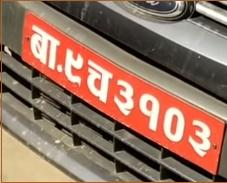0: (162, 103, 187, 146)
1: (138, 90, 161, 134)
3: (188, 115, 212, 160), (114, 77, 136, 117)
9: (62, 45, 84, 88)
ba: (29, 24, 60, 74)
cha: (85, 59, 113, 106)
